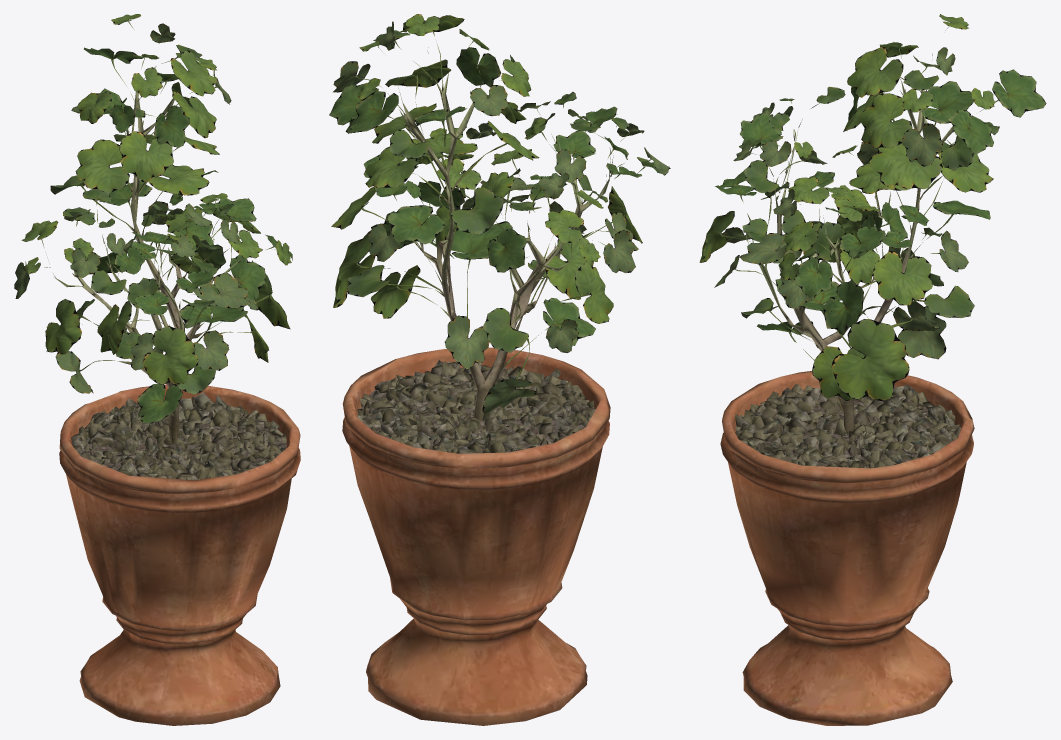
Rendered from potplant.glb.
The picture shows the model from 3 angles, left to right: view 1: azimuth 30°, elevation 25°; view 2: azimuth 150°, elevation 25°; view 3: azimuth 270°, elevation 25°; orthographic projection. The views are drawn at different scales.
Visible parts, largest first — view 1: potted_plant_01_stem, potted_plant_01_leaves; view 2: potted_plant_01_stem, potted_plant_01_leaves; view 3: potted_plant_01_stem, potted_plant_01_leaves.
Part boxes in pixels (x1,y1,x2,y2): potted_plant_01_stem: (54,91,300,725); potted_plant_01_leaves: (14,14,292,423); potted_plant_01_stem: (342,72,610,725); potted_plant_01_leaves: (329,14,670,413); potted_plant_01_stem: (720,81,974,725); potted_plant_01_leaves: (699,14,1046,400).
Bounding box in the file's own units: 0.5866 × 1.34 × 0.6336.
Materials: 2 (2 with a texture image).
